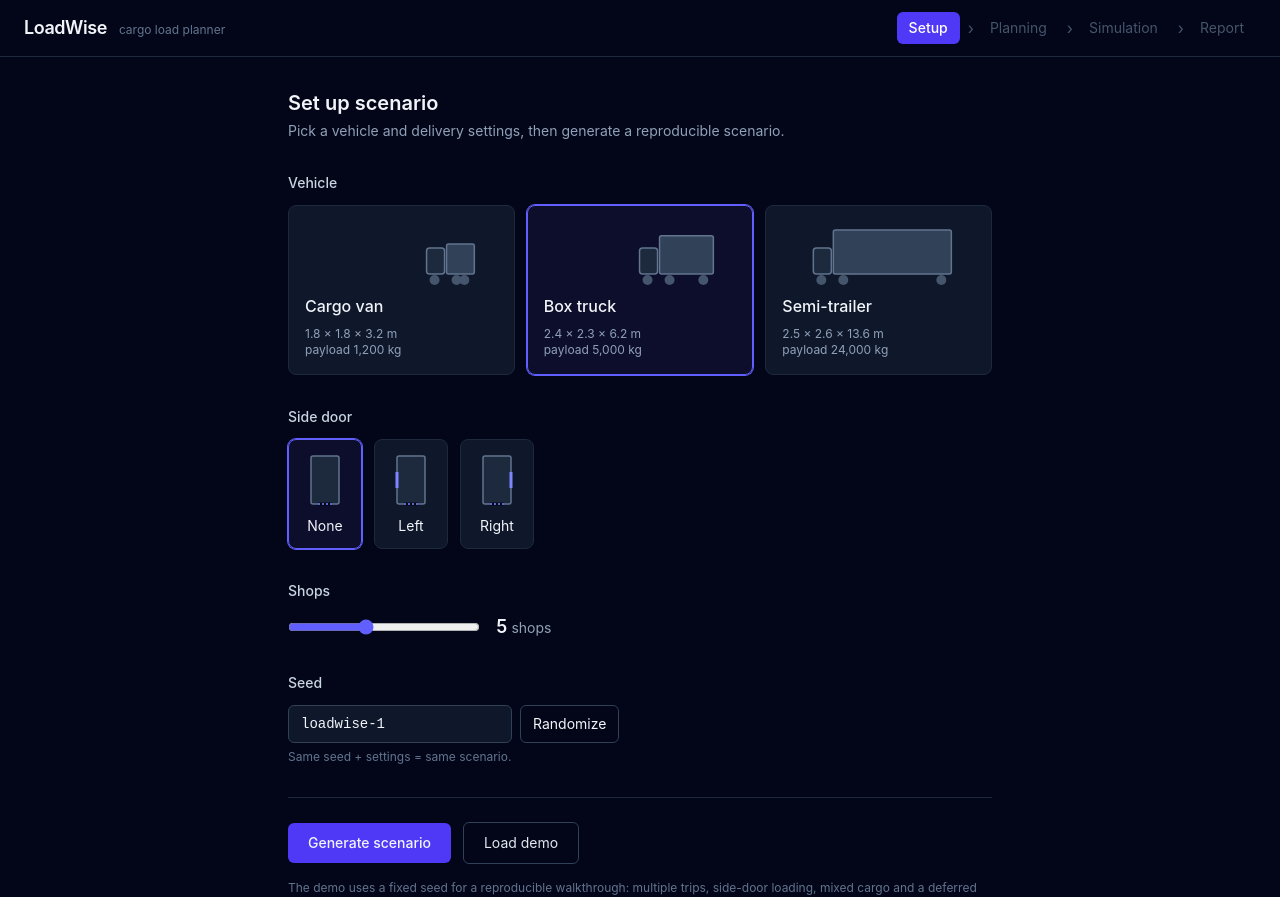
Scenario: App shell — happy path › gates the stepper and clicks through generate → optimize → simulation
Check: the heading "Set up scenario" is shown, box [288,91,438,115]
Check: the button "Planning" is disabled, box [978,12,1059,44]
// Generate a scenario → Planning unlocks and Generate navigates onto it.
What coordinates should you click on to do the following:
click the button "Generate scenario"
I would click on:
 (370, 843)
Its box is [288,823,451,863].
(page scrolled)
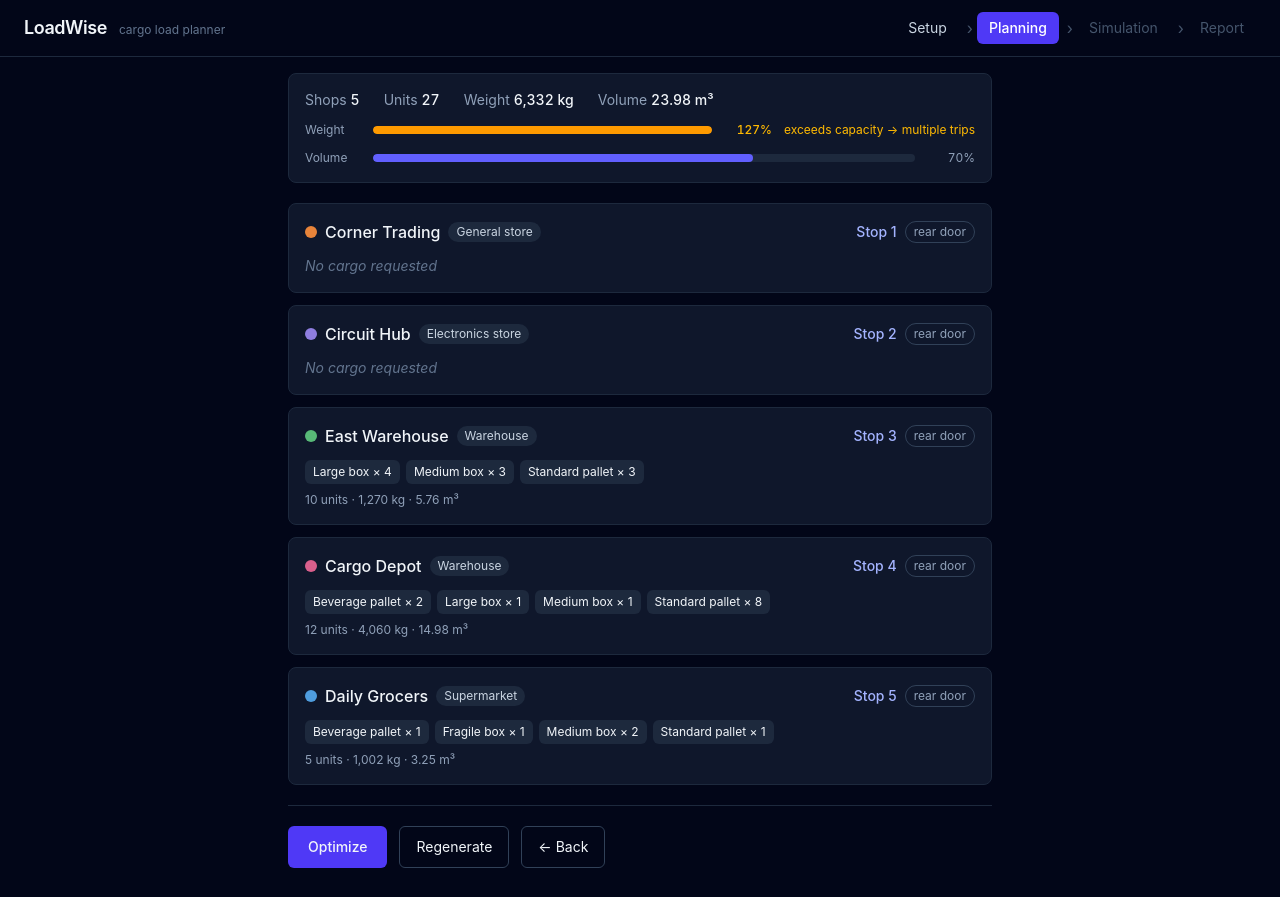
Check: the button "Planning" is enabled, box [977,12,1059,44]
What coordinates should you click on to do the following:
click the button "Optimize"
I would click on:
 (338, 847)
Its box is [288,826,388,868].
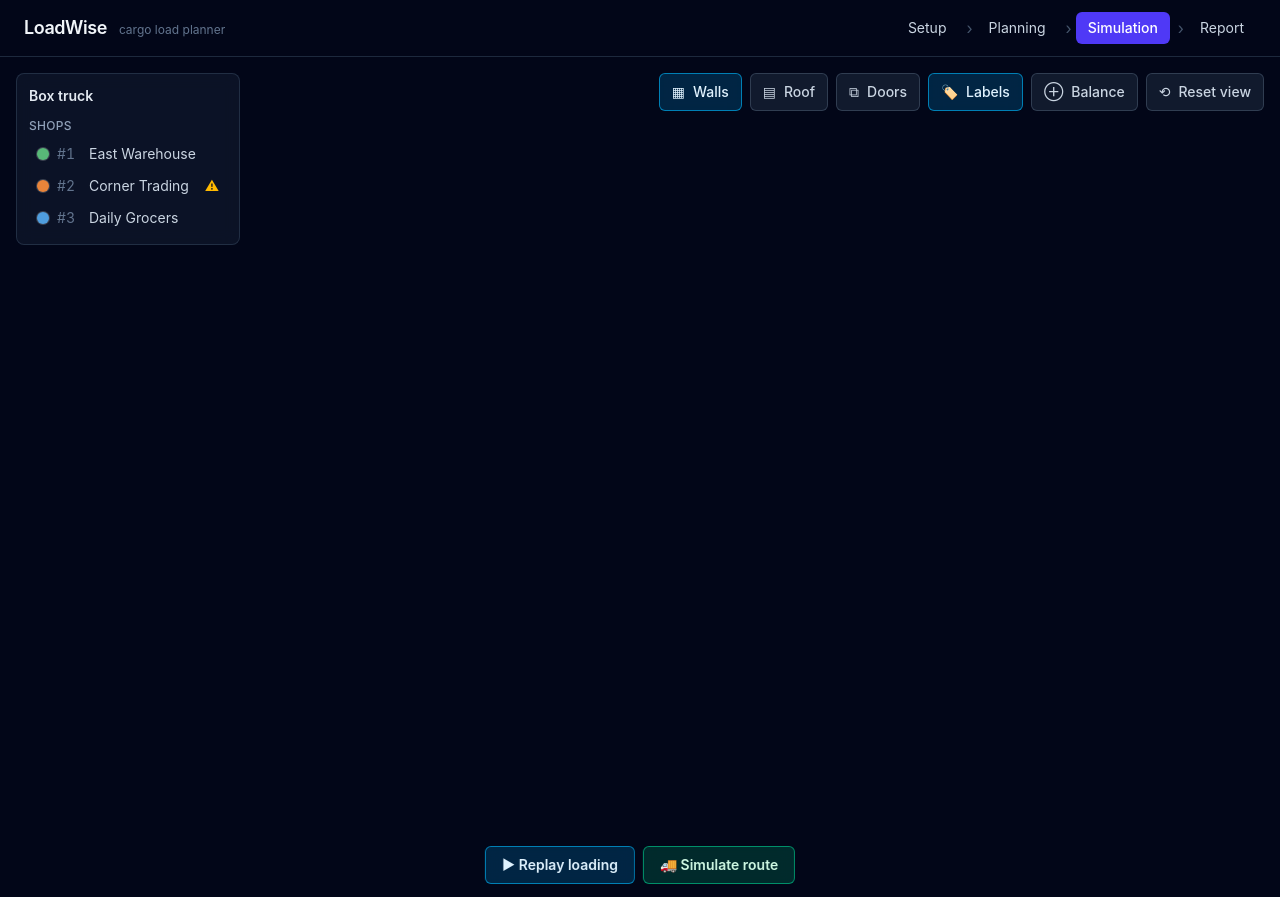
Check: the text "Shops" is shown, box [29,118,72,134]
Check: the button "Simulation" is enabled, box [1076,12,1170,44]
Check: the button "Report" is enabled, box [1188,12,1256,44]
